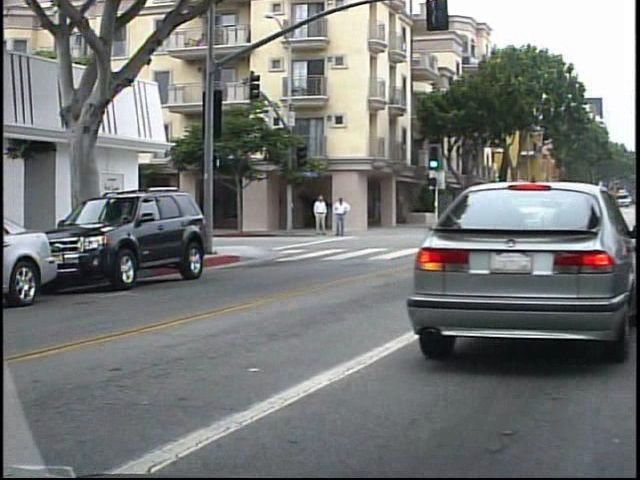person: (329, 193, 349, 239), (310, 192, 329, 238)
